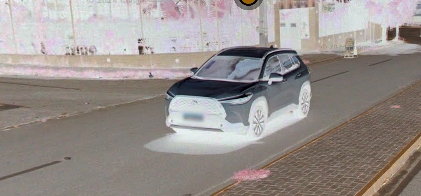car: (158, 41, 319, 143)
